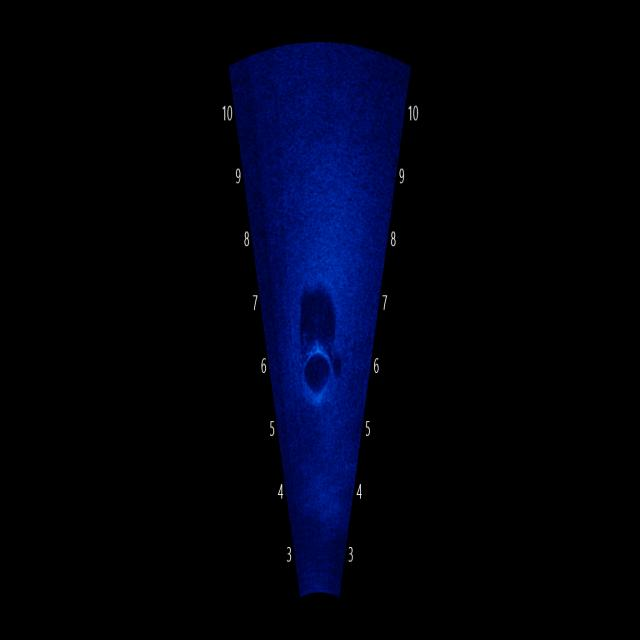circle: (295, 322, 353, 430)
